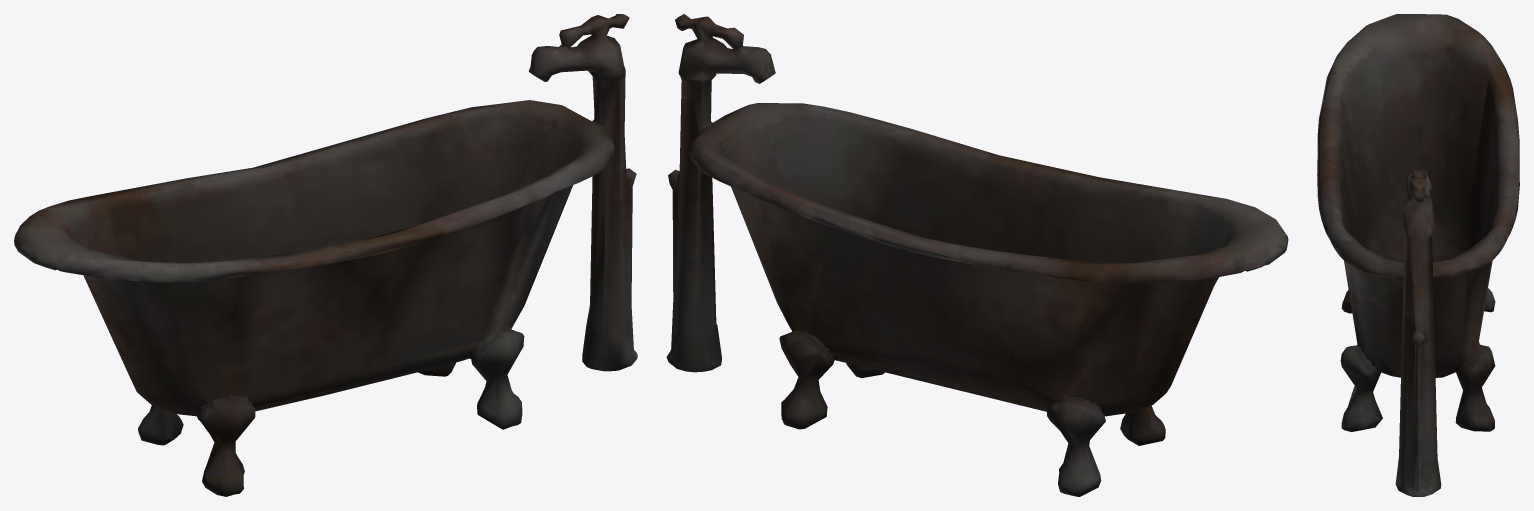
The model's file is ancient-iron-bathtub-v001.glb.
3 views of the same model, side by side, from view 1: azimuth 30°, elevation 25°; view 2: azimuth 150°, elevation 25°; view 3: azimuth 270°, elevation 25° (orthographic). The views are drawn at different scales.
Parts seen in each view (by area): view 1: ancient-iron-bathtub; view 2: ancient-iron-bathtub; view 3: ancient-iron-bathtub.
Part boxes in pixels (x1,y1,x2,y2): ancient-iron-bathtub: [14, 14, 637, 496]; ancient-iron-bathtub: [666, 14, 1288, 496]; ancient-iron-bathtub: [1317, 14, 1519, 496].
Size of the model in its own units: 1.13 by 0.6192 by 0.3701.
1 material, 1 textured.
